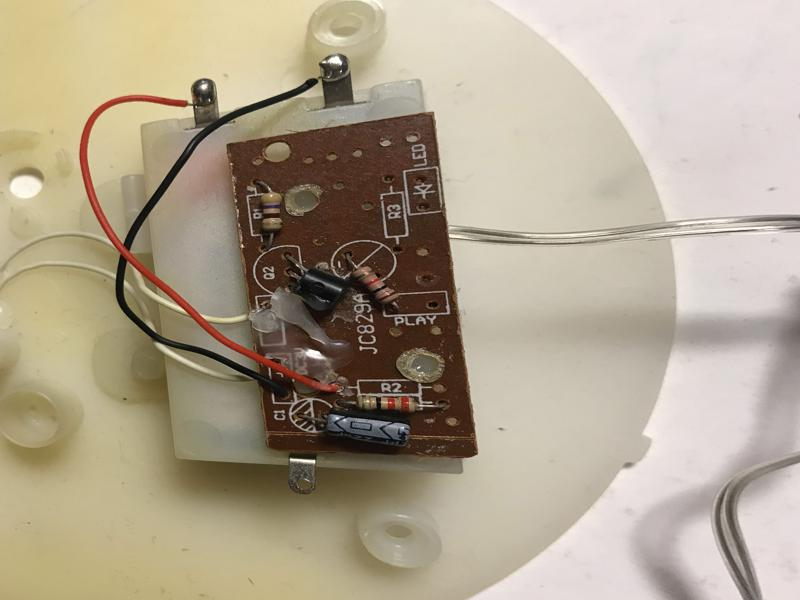Capacitor: (309, 408, 417, 450)
Resistor: (345, 259, 406, 311), (349, 392, 429, 417), (256, 186, 289, 240)
